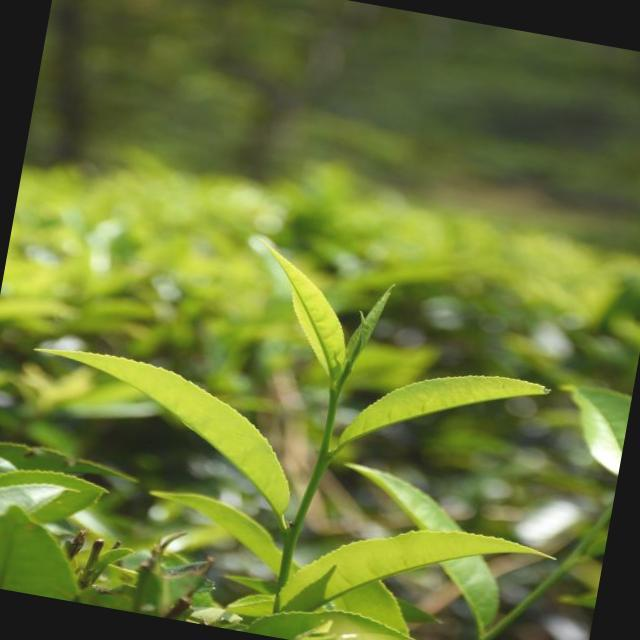Stem: (330, 389, 337, 402)
